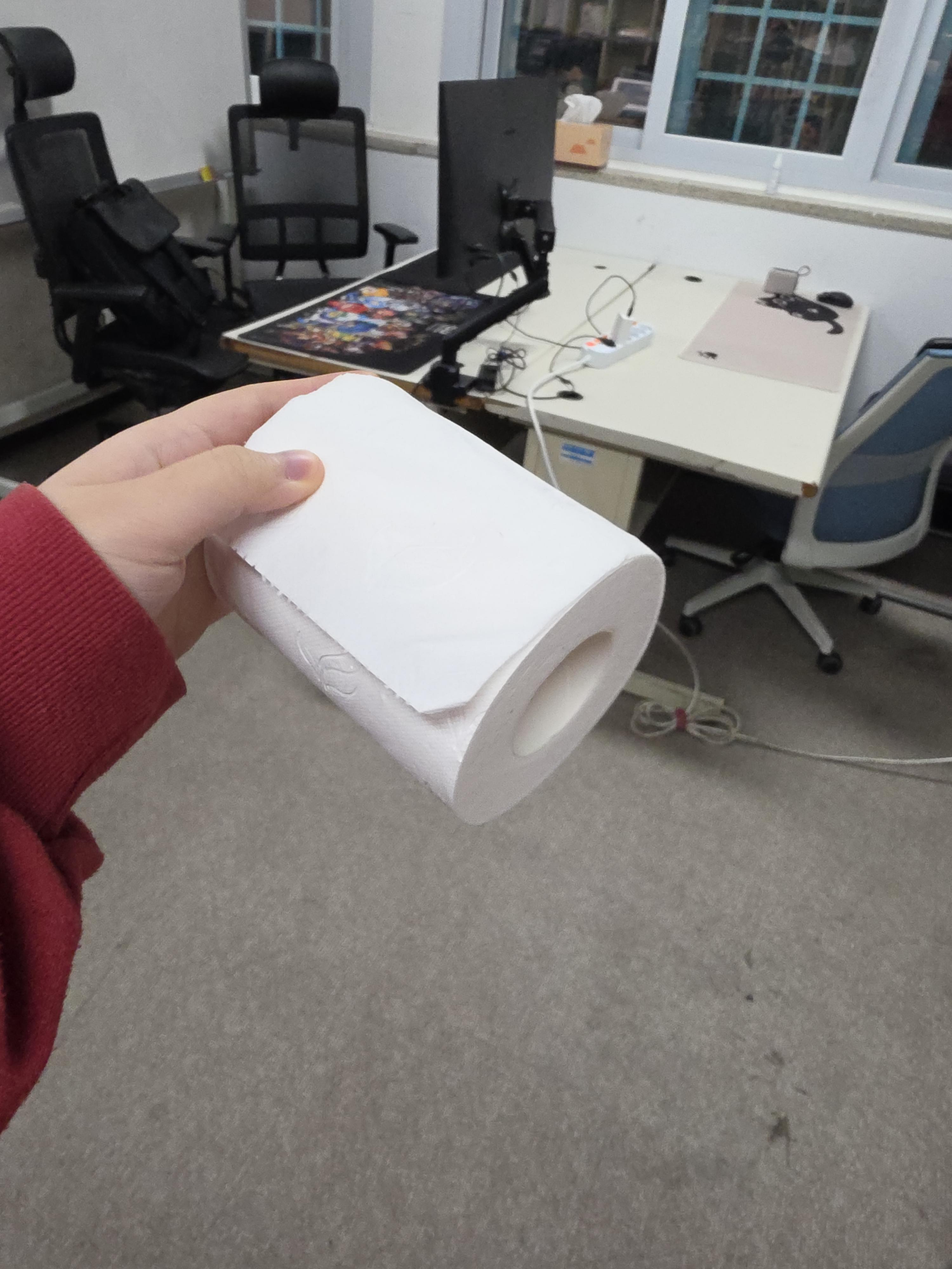tissue: (208, 372, 668, 825), (554, 94, 612, 168)
